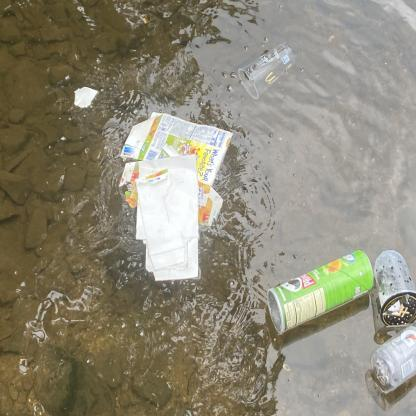trash: (115, 104, 236, 231), (261, 244, 381, 340), (132, 152, 211, 285), (365, 244, 416, 332), (232, 37, 302, 101), (368, 316, 416, 401), (68, 78, 104, 114)
